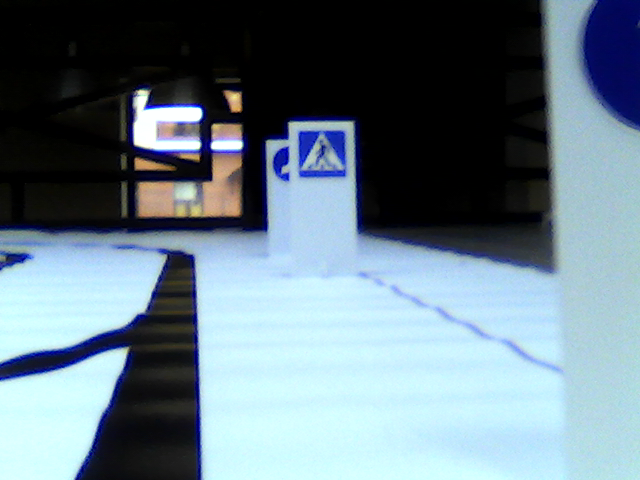pesh: (296, 129, 350, 177)
